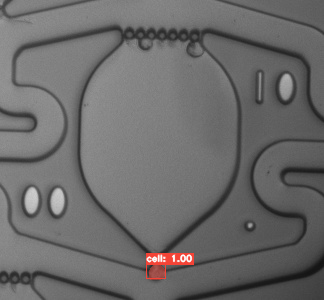AptNum: (241, 63, 301, 111)
Marker: (240, 215, 262, 236)
StNum: (14, 177, 78, 228)
Trap: (128, 257, 185, 300)
